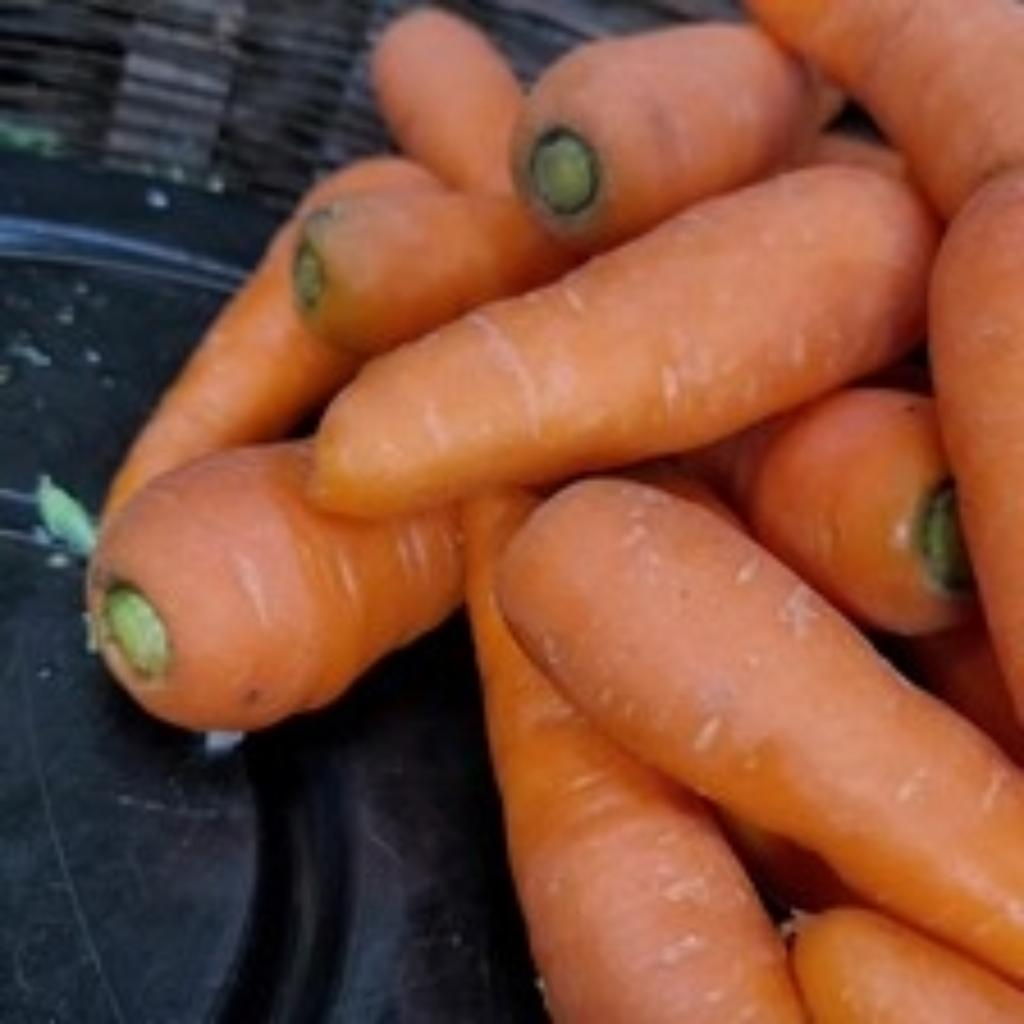carrot: (82, 0, 1015, 1015)
